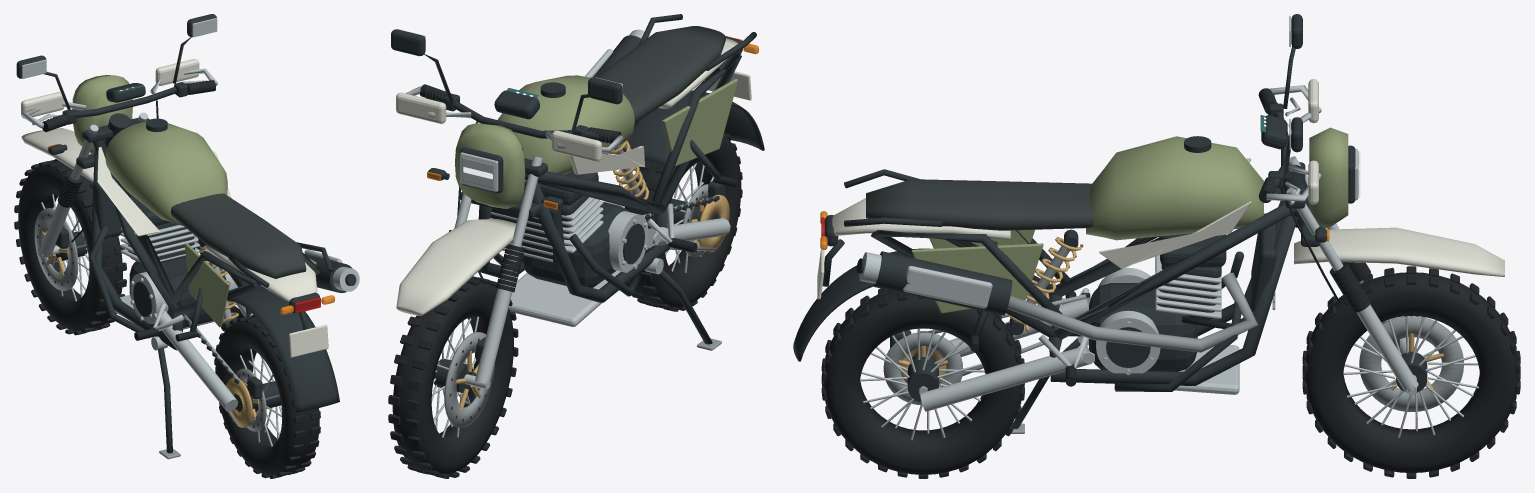
File: motorcycle-dual.glb
3 views of the same model, side by side, from view 1: azimuth 30°, elevation 25°; view 2: azimuth 150°, elevation 25°; view 3: azimuth 270°, elevation 25° (orthographic). The views are drawn at different scales.
Parts seen in each view (by area): view 1: dual_root__03_powdercoat, dual_root__01_body_enamel, wheel_front__04_tire_rubber, wheel_rear__04_tire_rubber, dual_root__05_grained_saddle, dual_root__06_brushed_alloy, dual_root__02_ivory_trim, steering__03_powdercoat, steering__02_ivory_trim, steering__06_brushed_alloy, steering__01_body_enamel, wheel_front__07_disc_steel (+10 smaller); view 2: dual_root__03_powdercoat, wheel_front__04_tire_rubber, dual_root__01_body_enamel, steering__02_ivory_trim, dual_root__06_brushed_alloy, dual_root__05_grained_saddle, wheel_rear__04_tire_rubber, steering__03_powdercoat, steering__06_brushed_alloy, steering__01_body_enamel, dual_root__02_ivory_trim, wheel_front__07_disc_steel (+11 smaller); view 3: dual_root__03_powdercoat, wheel_front__04_tire_rubber, wheel_rear__04_tire_rubber, dual_root__01_body_enamel, dual_root__06_brushed_alloy, dual_root__05_grained_saddle, steering__02_ivory_trim, dual_root__07_disc_steel, dual_root__02_ivory_trim, wheel_front__07_disc_steel, steering__06_brushed_alloy, steering__03_powdercoat (+8 smaller).
Boxes of the visible parts, <box> form: dual_root__03_powdercoat: <box>88,113,356,412</box>; dual_root__01_body_enamel: <box>105,121,316,327</box>; wheel_front__04_tire_rubber: <box>14,159,126,335</box>; wheel_rear__04_tire_rubber: <box>214,315,320,478</box>; dual_root__05_grained_saddle: <box>170,193,306,278</box>; dual_root__06_brushed_alloy: <box>114,225,359,411</box>; dual_root__02_ivory_trim: <box>97,147,328,357</box>; steering__03_powdercoat: <box>16,14,216,248</box>; steering__02_ivory_trim: <box>21,59,199,182</box>; steering__06_brushed_alloy: <box>21,18,217,257</box>; steering__01_body_enamel: <box>72,75,132,154</box>; wheel_front__07_disc_steel: <box>34,208,78,290</box>; dual_root__03_powdercoat: <box>478,14,764,302</box>; wheel_front__04_tire_rubber: <box>388,276,518,478</box>; dual_root__01_body_enamel: <box>498,75,737,180</box>; steering__02_ivory_trim: <box>396,92,601,315</box>; dual_root__06_brushed_alloy: <box>508,29,730,326</box>; dual_root__05_grained_saddle: <box>597,26,725,122</box>; wheel_rear__04_tire_rubber: <box>624,131,742,311</box>; steering__03_powdercoat: <box>391,29,622,362</box>; steering__06_brushed_alloy: <box>398,29,623,389</box>; steering__01_body_enamel: <box>455,123,525,208</box>; dual_root__02_ivory_trim: <box>568,38,751,174</box>; wheel_front__07_disc_steel: <box>444,332,494,427</box>; dual_root__03_powdercoat: <box>793,136,1309,391</box>; wheel_front__04_tire_rubber: <box>1302,266,1520,478</box>; wheel_rear__04_tire_rubber: <box>821,288,1024,478</box>; dual_root__01_body_enamel: <box>911,136,1263,313</box>; dual_root__06_brushed_alloy: <box>859,240,1239,411</box>; dual_root__05_grained_saddle: <box>866,179,1094,230</box>; steering__02_ivory_trim: <box>1294,79,1504,276</box>; dual_root__07_disc_steel: <box>924,242,1275,376</box>; dual_root__02_ivory_trim: <box>817,158,1251,299</box>; wheel_front__07_disc_steel: <box>1359,316,1463,411</box>; steering__06_brushed_alloy: <box>1266,16,1418,395</box>; steering__03_powdercoat: <box>1261,14,1399,347</box>.
Bounding box in the file's own units: 0.945 × 1.46 × 2.41.
